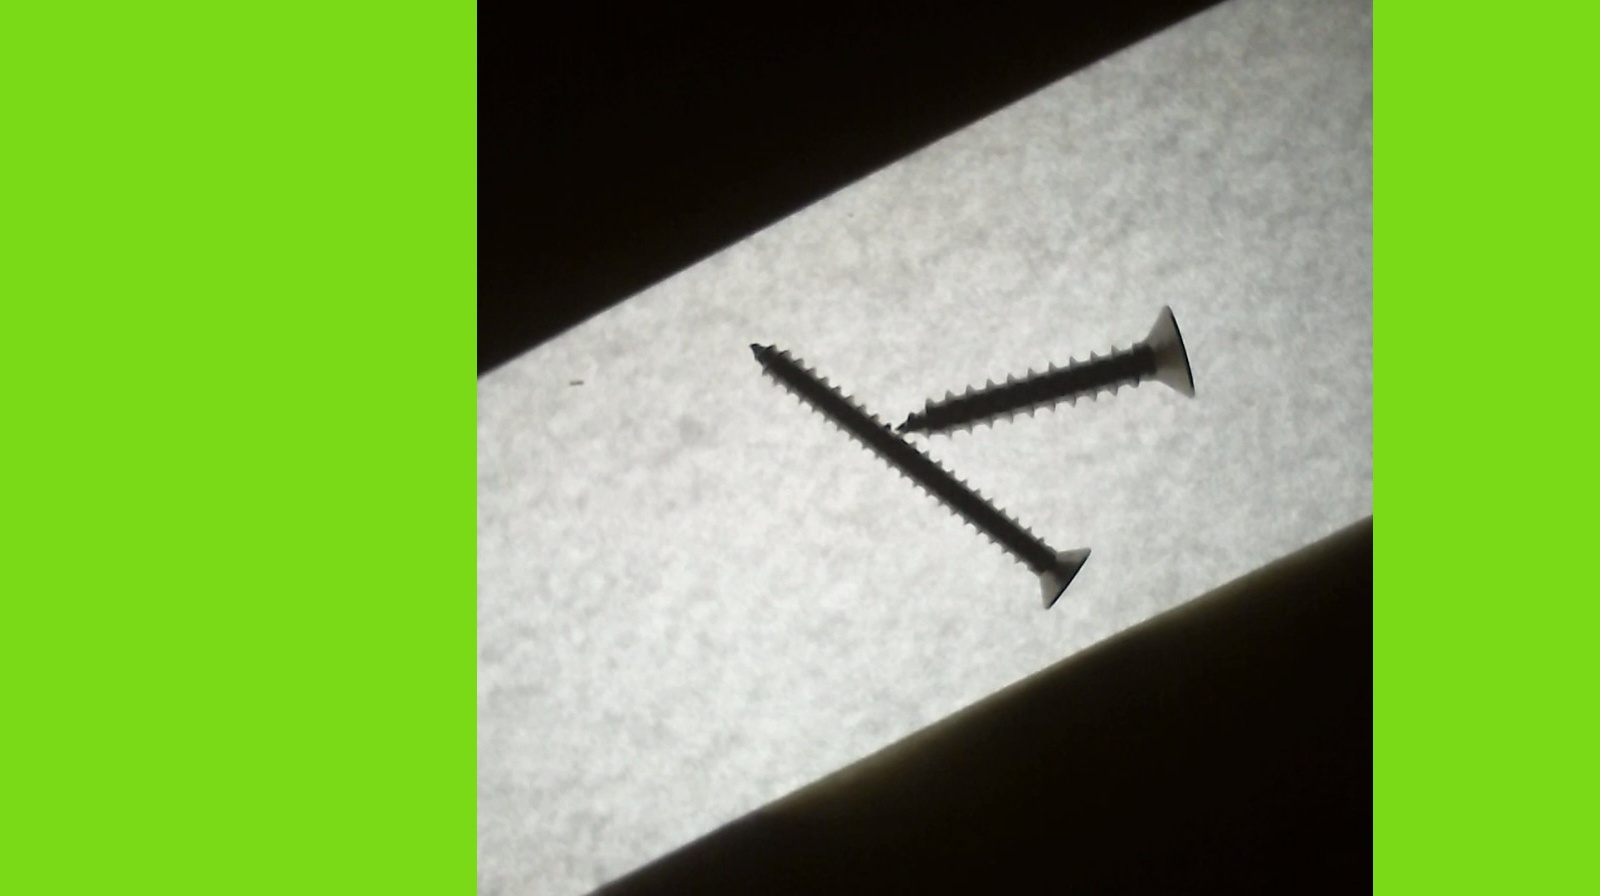S001: (896, 301, 1198, 438)
S002: (744, 332, 1091, 610)
